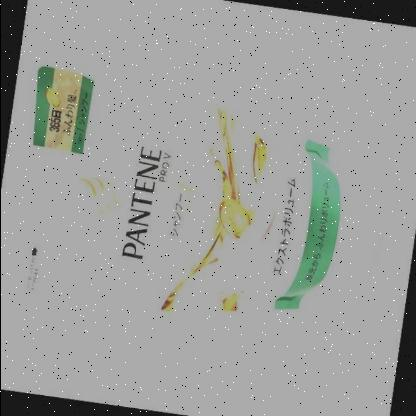Others: (1, 56, 404, 352)
